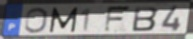1: (79, 8, 91, 32)
4: (161, 4, 183, 33)
B: (131, 6, 160, 33)
F: (103, 5, 133, 34)
M: (49, 7, 80, 34)
O: (23, 7, 49, 34)
